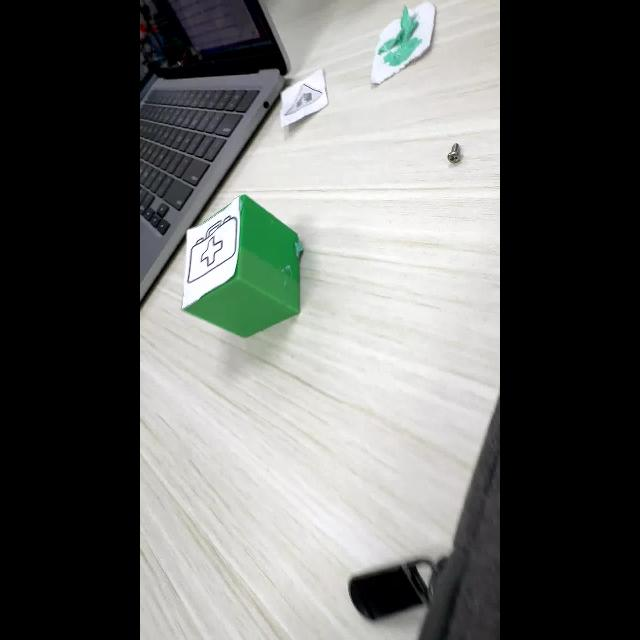Medkit: (187, 216, 236, 283)
